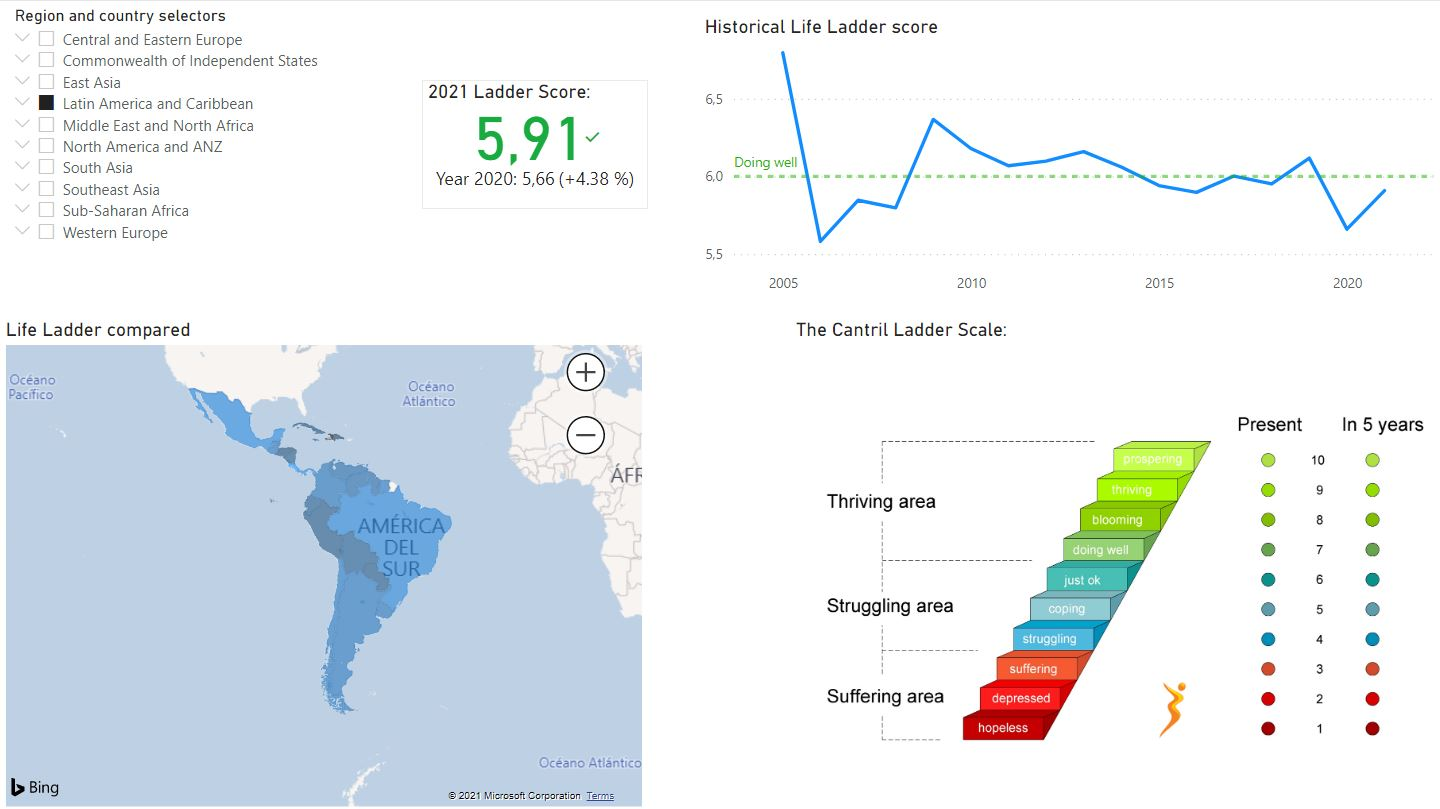

What the dashboard file says about the page in this screenshot:
{"tool":"powerbi","page":{"name":"Cantril Ladder","canvas":[1280,720],"ordinal":2},"visuals":[{"type":"slicer","fields":{"Values":["country-region.Regional indicator","country-region.Country name"]},"box":[0,0,341.3,281],"z":0},{"type":"filledMap","title":"Life Ladder compared","fields":{"Category":["world-happiness-report.Country name"]},"box":[0,281.4,575.3,438.6],"z":1000},{"type":"lineChart","title":"Historical Life Ladder score","fields":{"Category":["Indexes Complete.year"],"Y":["Avg(Indexes Complete.Life Ladder)"]},"box":[620.6,12.4,659.6,255.7],"z":2000},{"type":"image","title":"The Cantril Ladder Scale:","box":[701.4,281.4,578.8,438.6],"z":3000},{"type":"kpi","title":"2021 Ladder Score:","fields":{"Goal":["Avg(world-happiness-report.Life Ladder)"],"TrendLine":["world-happiness-report.year"],"Indicator":["Avg(world-happiness-report-2021.Ladder score)"]},"box":[374.6,70.1,200.6,114.5],"z":4000}]}

Visuals, with their boxes in screenshot pixels (x1, y1, x2, y2), scaled from the page's 1280x720 canvas onto the 1440x809 screenshot:
slicer - country-region.Regional indicator x country-region.Country name: region(0, 0, 384, 316)
"Life Ladder compared" filledMap: region(0, 316, 647, 808)
"Historical Life Ladder score" lineChart: region(698, 14, 1439, 301)
"The Cantril Ladder Scale:" image: region(789, 316, 1439, 808)
"2021 Ladder Score:" kpi: region(421, 79, 647, 207)
